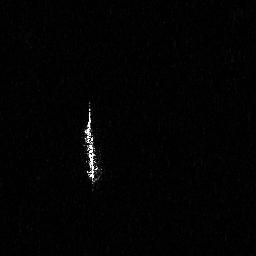ship: (82, 96, 107, 194)
